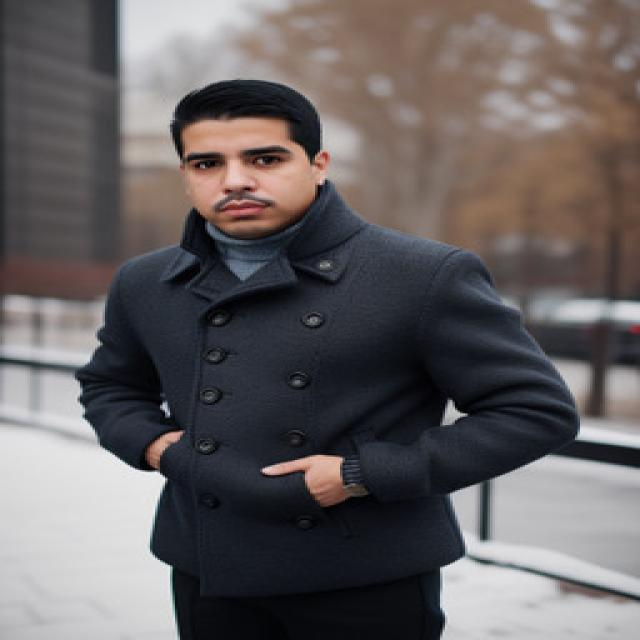Ai human 2: (73, 64, 602, 640)
